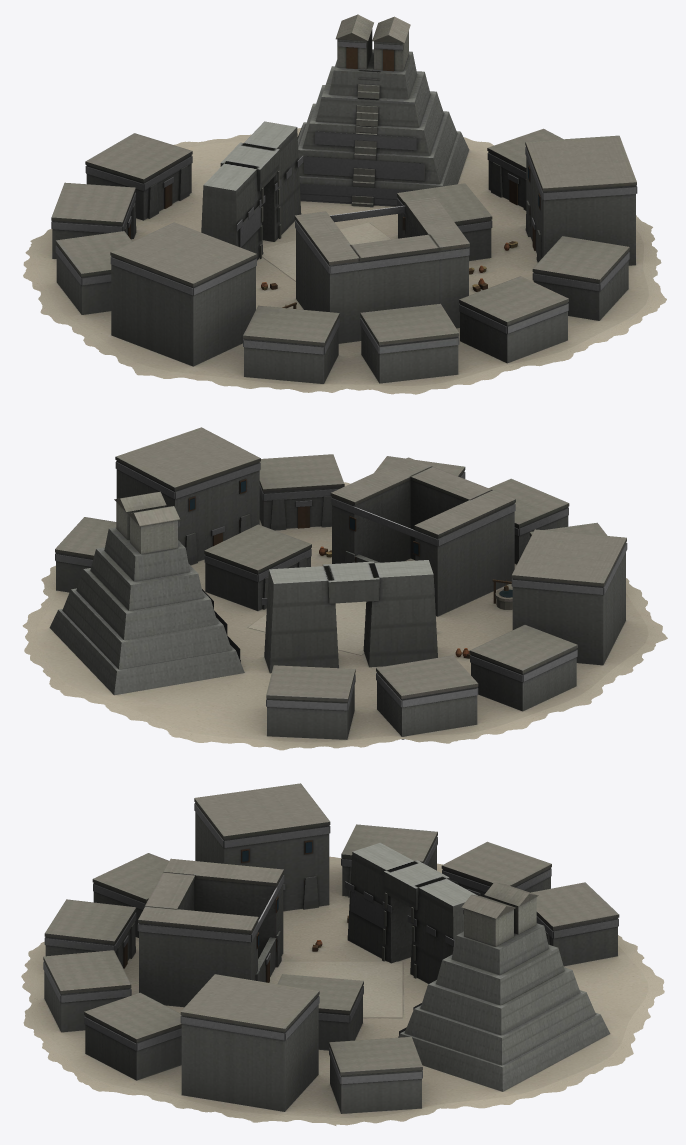
Rendered from kingdoms-town-medium-b-americas.glb.
The picture shows the model from 3 angles, top to bottom: view 1: azimuth 30°, elevation 25°; view 2: azimuth 150°, elevation 25°; view 3: azimuth 270°, elevation 25°; orthographic projection.
Parts seen in each view (by area): view 1: LOD0; view 2: LOD0; view 3: LOD0.
Part boxes in pixels (x1=…): LOD0: x1=23, y1=14, x2=666, y2=394; LOD0: x1=22, y1=427, x2=667, y2=750; LOD0: x1=21, y1=783, x2=664, y2=1125.
Size of what is drawn, in the model's own units: 5.93 by 1.53 by 5.95.
3 materials, 3 textured.
